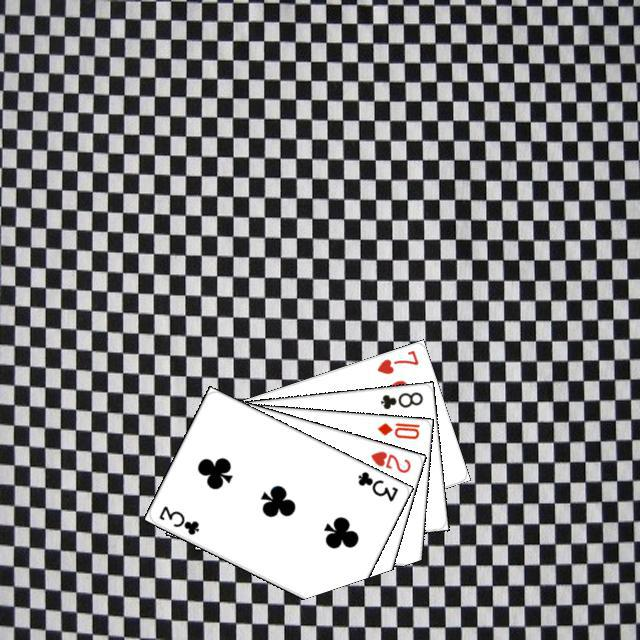10d: (372, 418, 421, 441)
2h: (366, 446, 413, 475)
3c: (353, 467, 400, 503), (154, 501, 201, 536)
7h: (372, 345, 420, 376)
8c: (375, 387, 424, 411)
